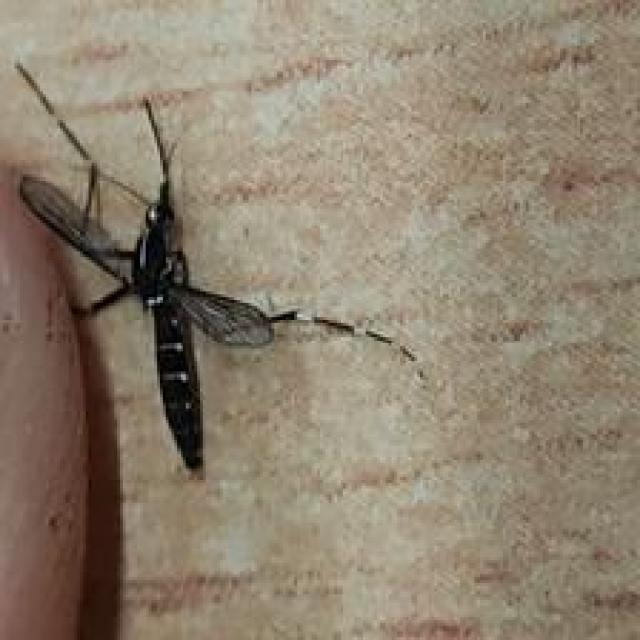Aedes albopictus: (13, 59, 421, 478)
